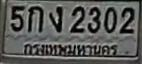0: (103, 6, 116, 32)
2: (70, 5, 84, 32), (120, 6, 134, 33)
3: (87, 6, 100, 32)
5: (10, 5, 24, 31)
A01: (27, 5, 43, 32)
A07: (48, 5, 62, 32)
BKK: (23, 41, 121, 59)
